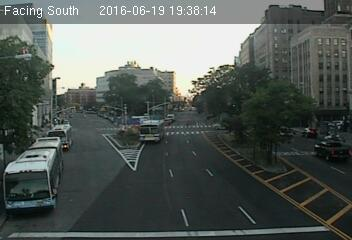neg: (292, 108, 313, 137), (248, 139, 269, 167), (95, 159, 116, 187), (286, 52, 306, 79), (224, 186, 244, 213), (46, 199, 65, 224), (321, 142, 339, 166), (176, 153, 193, 176), (189, 46, 206, 68), (87, 63, 104, 85), (129, 189, 145, 211), (237, 49, 253, 70), (146, 132, 161, 153), (23, 183, 38, 204), (196, 117, 211, 137), (57, 158, 72, 178), (3, 94, 18, 114), (31, 54, 46, 74), (328, 75, 343, 95), (160, 54, 175, 73), (1, 146, 15, 166), (36, 149, 50, 167), (247, 109, 260, 126), (42, 110, 55, 127), (144, 102, 156, 119), (130, 54, 142, 69), (74, 102, 86, 117), (63, 129, 74, 143)
